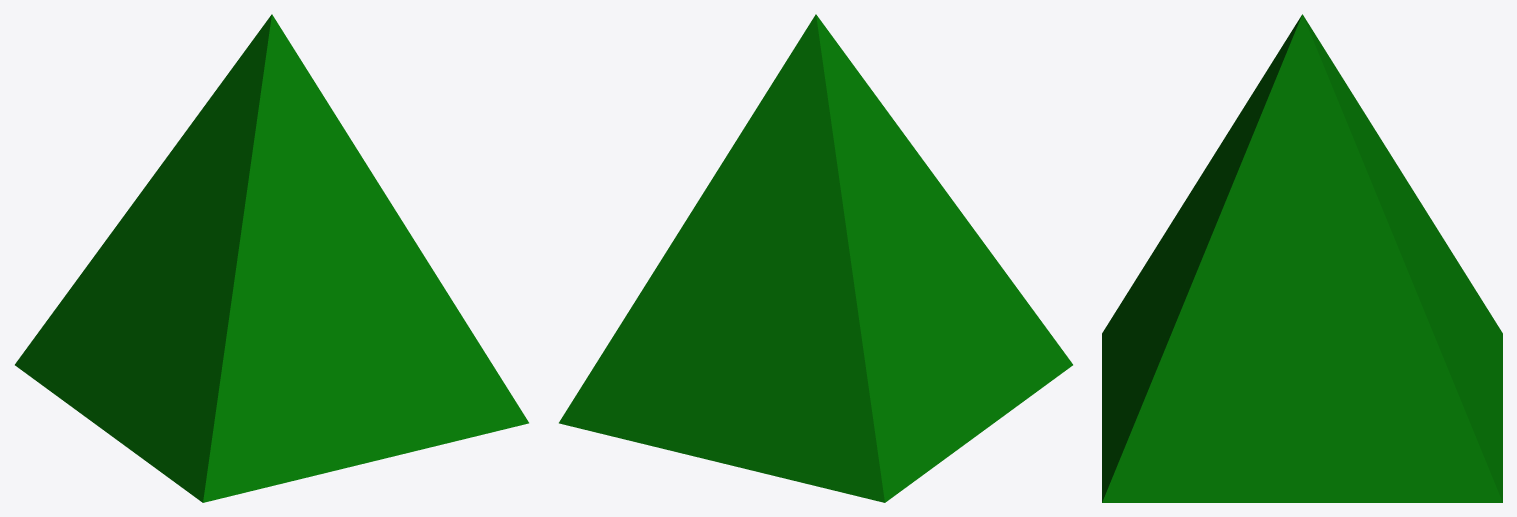
Rendered from GreenPyramid.dae.
The picture shows the model from 3 angles, left to right: view 1: azimuth 30°, elevation 25°; view 2: azimuth 150°, elevation 25°; view 3: azimuth 270°, elevation 25°; orthographic projection. The views are drawn at different scales.
Parts seen in each view (by area): view 1: SketchUp; view 2: SketchUp; view 3: SketchUp.
Boxes of the visible parts, x1,y1,x2,y2 form: SketchUp: (15,14,528,502); SketchUp: (559,14,1072,502); SketchUp: (1102,14,1502,502).
Size of the model in its own units: 18.88 by 18.88 by 21.
